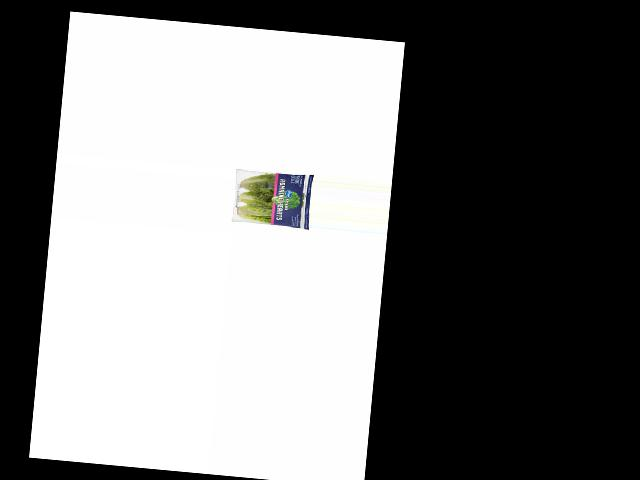lettuce: (233, 166, 312, 232)
